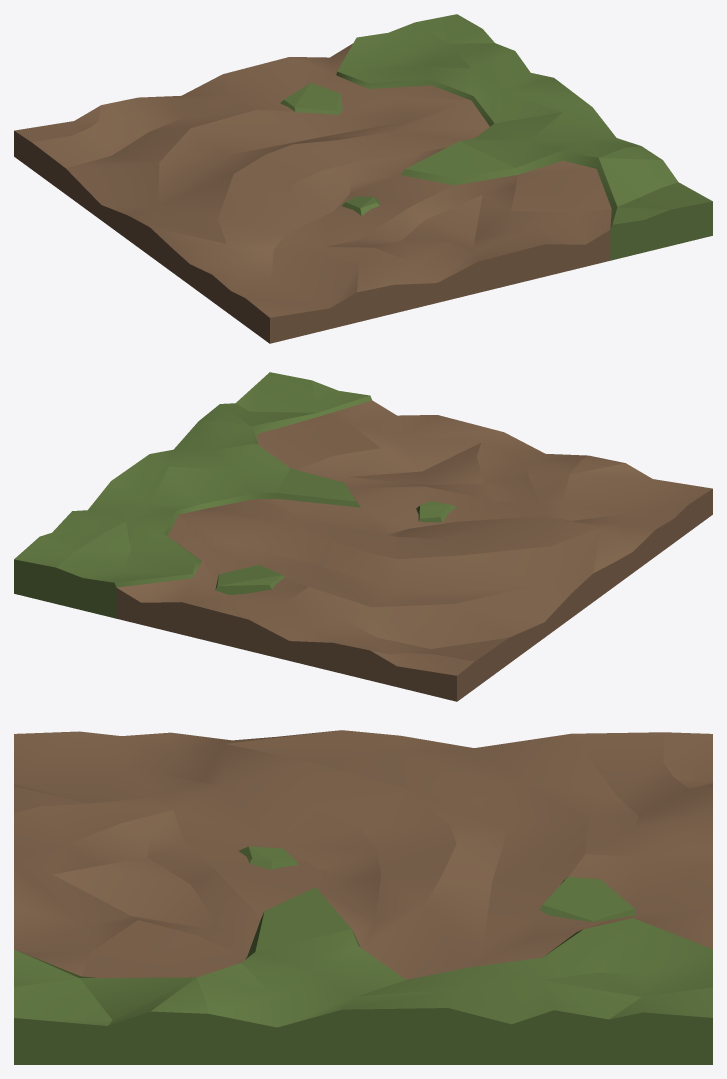
Rendered from Ground_Edge_R.glb.
3 renders of one model, top to bottom at view 1: azimuth 30°, elevation 25°; view 2: azimuth 150°, elevation 25°; view 3: azimuth 270°, elevation 25°, orthographic. The views are drawn at different scales.
Parts seen in each view (by area): view 1: Ground_Edge_R; view 2: Ground_Edge_R; view 3: Ground_Edge_R.
Boxes of the visible parts, box(x1,y1,x2,y2) form: Ground_Edge_R: box(14, 14, 712, 343); Ground_Edge_R: box(14, 372, 712, 701); Ground_Edge_R: box(14, 730, 712, 1064).
Size of the model in its own units: 1.47 by 0.1317 by 1.47.
